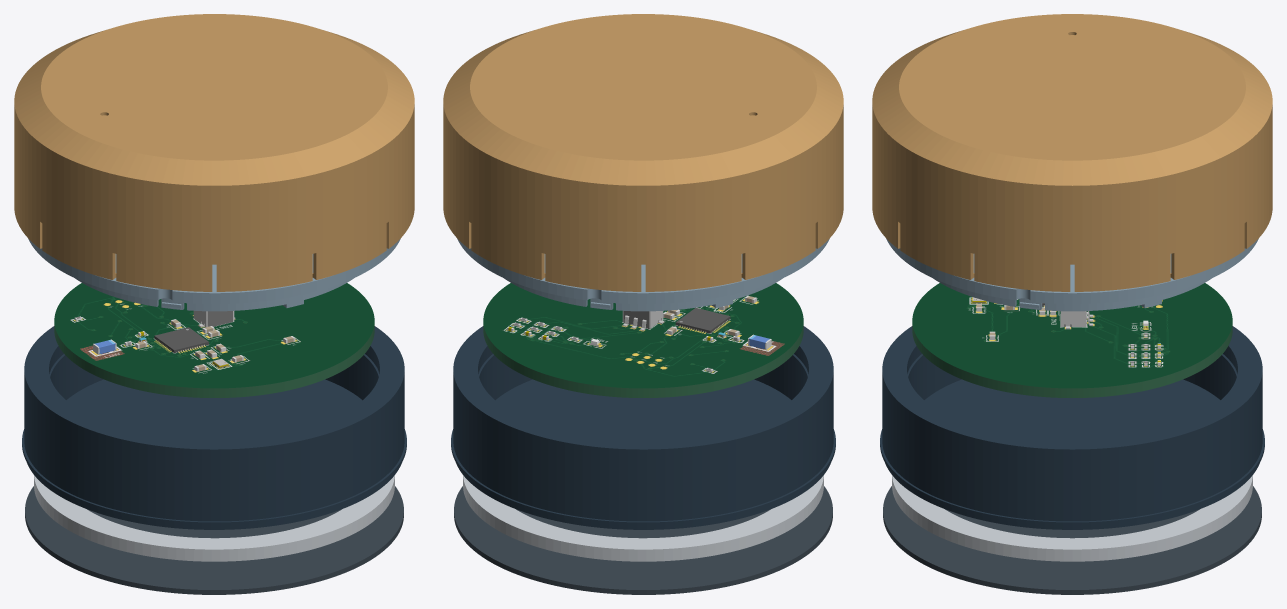
Rendered from turncount-exploded.glb.
3 renders of one model, left to right at view 1: azimuth 30°, elevation 25°; view 2: azimuth 150°, elevation 25°; view 3: azimuth 270°, elevation 25°, orthographic.
Visible parts, largest first — view 1: KNOB, BASE, Box0, CONTACT_FILM_REFERENCE, MAGNET_RING_REFERENCE, LID, U1, ENC1; view 2: KNOB, BASE, Box0, CONTACT_FILM_REFERENCE, MAGNET_RING_REFERENCE, LID, U1, ENC1; view 3: KNOB, BASE, Box0, CONTACT_FILM_REFERENCE, MAGNET_RING_REFERENCE, LID, ENC1.
Part boxes in pixels (x1,y1,x2,y2): KNOB: (14,14,414,291); BASE: (22,326,406,529); Box0: (54,283,374,397); CONTACT_FILM_REFERENCE: (25,486,403,594); MAGNET_RING_REFERENCE: (34,475,394,561); LID: (28,238,400,311); U1: (154,327,208,353); ENC1: (193,311,235,327); KNOB: (443,14,843,291); BASE: (451,326,835,529); Box0: (483,283,803,397); CONTACT_FILM_REFERENCE: (454,486,832,594); MAGNET_RING_REFERENCE: (463,475,823,561); LID: (457,238,829,311); U1: (675,308,730,333); ENC1: (622,311,664,330); KNOB: (872,14,1272,291); BASE: (880,326,1264,529); Box0: (912,283,1232,397); CONTACT_FILM_REFERENCE: (883,486,1261,594); MAGNET_RING_REFERENCE: (892,475,1252,561); LID: (886,238,1258,311); ENC1: (1060,311,1093,329).
Size of the model in its own units: 60 by 70.7 by 60.
33 materials, 2 textured.
